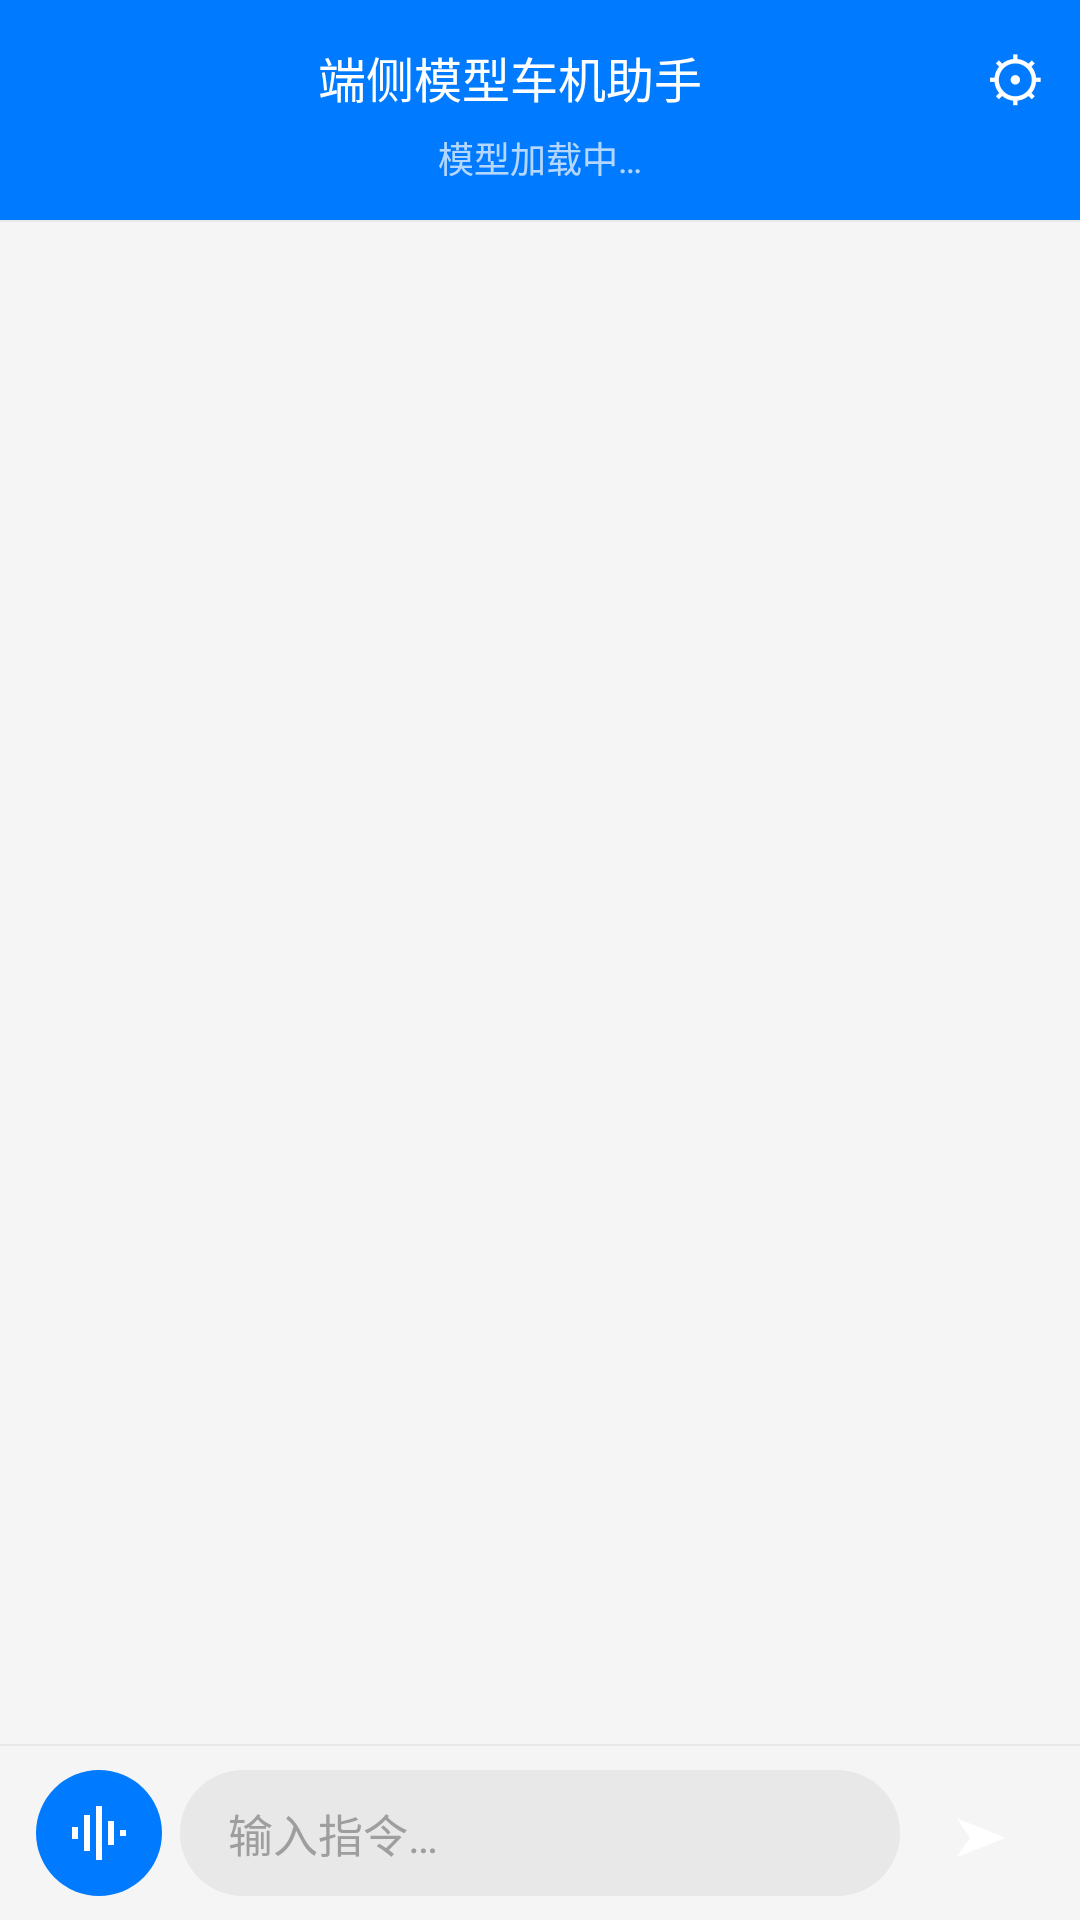

Icons on this 1080 × 1920 Android screen, each with the point to tap as (x,y):
waveform: (99,1833)
